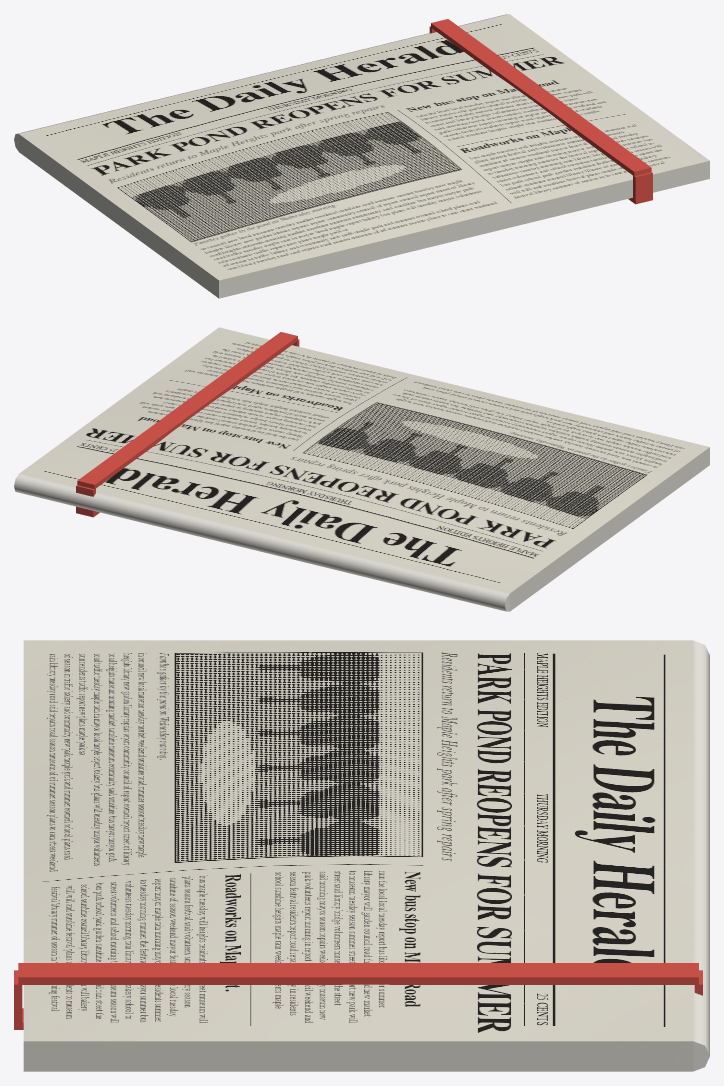
File: newspaper_folded.glb
3 renders of one model, top to bottom at view 1: azimuth 30°, elevation 25°; view 2: azimuth 150°, elevation 25°; view 3: azimuth 270°, elevation 25°, orthographic. The views are drawn at different scales.
Parts seen in each view (by area): view 1: Paper; view 2: Paper; view 3: Paper.
Boxes of the visible parts, x1,y1,x2,y2 form: Paper: [14, 14, 709, 298]; Paper: [14, 327, 709, 611]; Paper: [14, 640, 709, 1071].
Size of the model in its own units: 0.34 by 0.023 by 0.2495.
4 materials, 1 textured.
